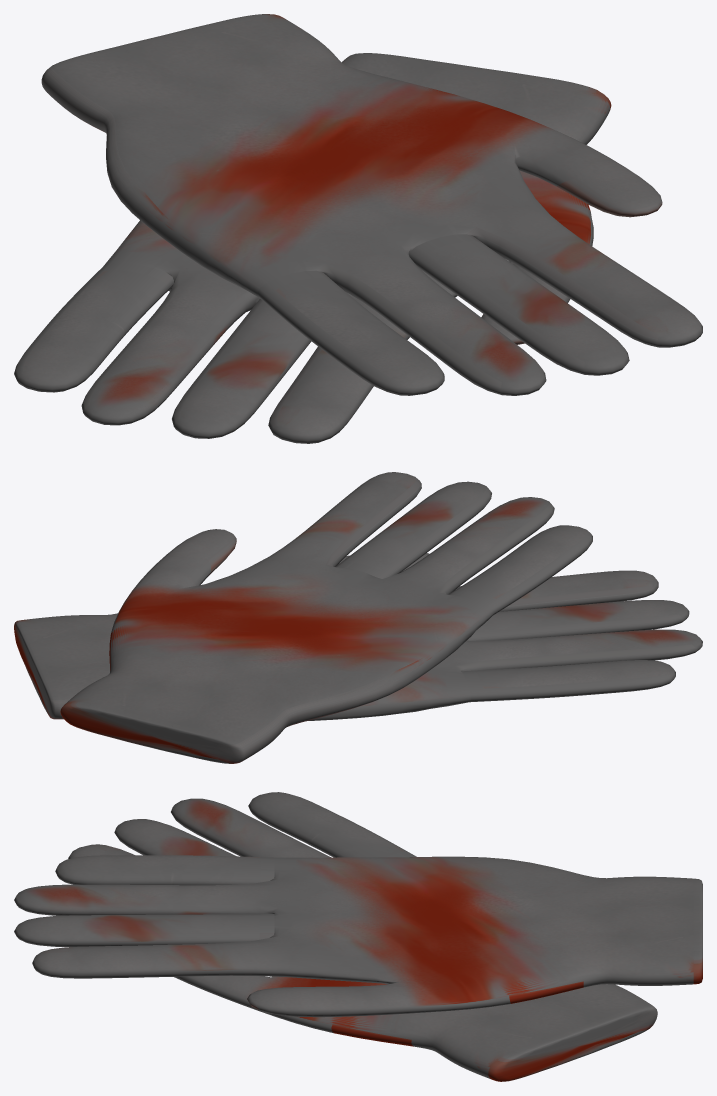
Rendered from zinzzaglove.fbx.
3 views of the same model, one above another, from view 1: azimuth 30°, elevation 25°; view 2: azimuth 150°, elevation 25°; view 3: azimuth 270°, elevation 25° (orthographic). The views are drawn at different scales.
Visible parts, largest first — view 1: 큐브; view 2: 큐브; view 3: 큐브.
Part boxes in pixels (bbox=[...]): 큐브: bbox=[14, 14, 702, 443]; 큐브: bbox=[14, 472, 702, 763]; 큐브: bbox=[14, 792, 702, 1081].
Size of the model in its own units: 94.4 by 8.22 by 99.32.
1 material, 1 textured.
